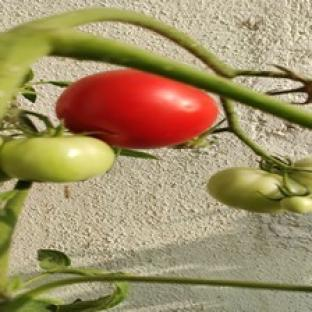Tomato: (56, 70, 218, 149), (0, 136, 115, 182), (208, 168, 284, 213), (290, 156, 311, 190), (280, 197, 311, 213), (0, 169, 11, 182)
